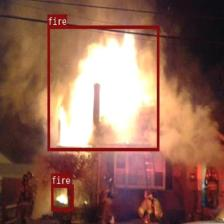fire: (47, 25, 159, 151), (51, 184, 74, 211)
